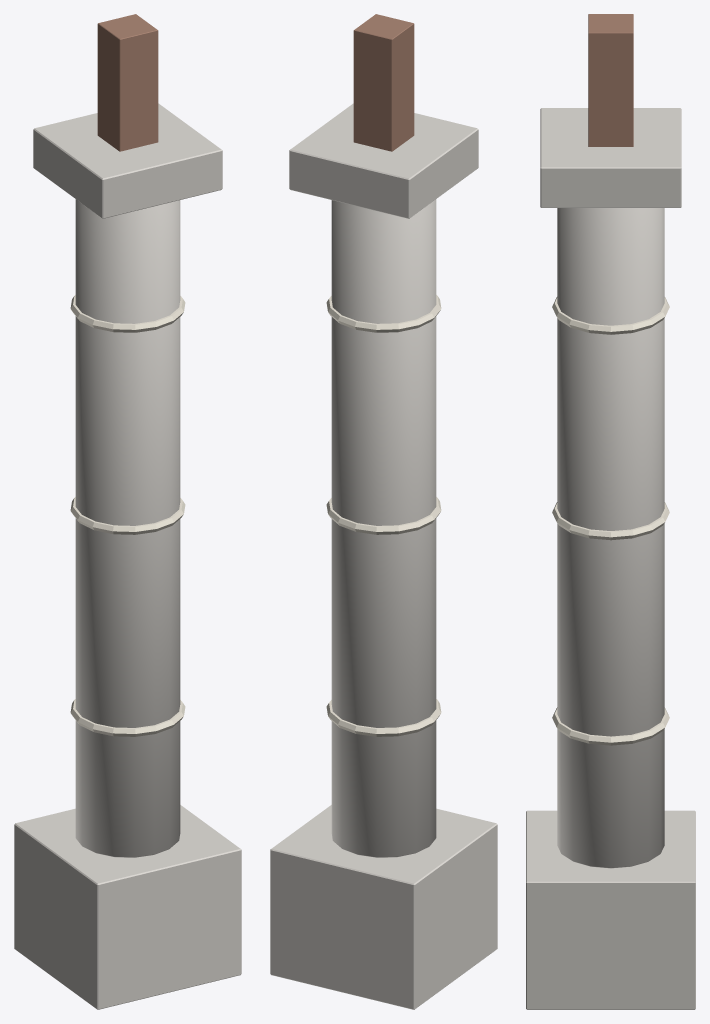
Rendered from trajan_column.glb.
3 views of the same model, side by side, from view 1: azimuth 30°, elevation 25°; view 2: azimuth 150°, elevation 25°; view 3: azimuth 270°, elevation 25° (orthographic).
Parts seen in each view (by area): view 1: merged_marble, statue, merged_travertine; view 2: merged_marble, statue, merged_travertine; view 3: merged_marble, statue, merged_travertine.
Part boxes in pixels (box(x1,y1,x2,y2)): merged_marble: box(14, 103, 241, 1009); statue: box(97, 14, 158, 151); merged_travertine: box(70, 295, 185, 736); merged_marble: box(270, 103, 497, 1009); statue: box(353, 14, 414, 151); merged_travertine: box(326, 295, 441, 736); merged_marble: box(526, 108, 695, 1009); statue: box(588, 14, 633, 146); merged_travertine: box(552, 297, 669, 745).
Bounding box in the file's own units: 6 × 37.05 × 6.
